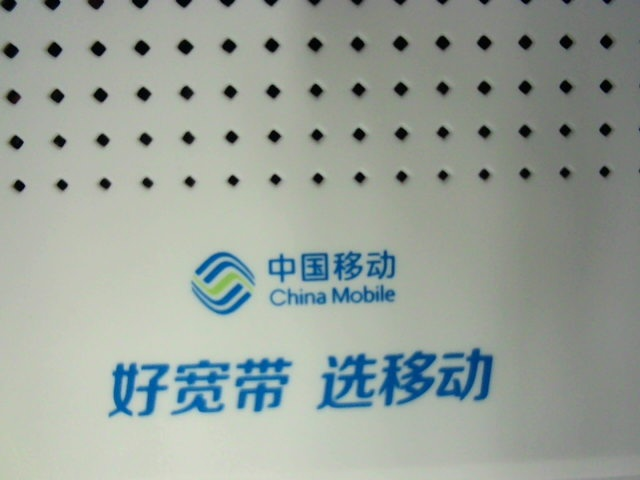AA_ChinaMoble: (91, 246, 501, 419)
